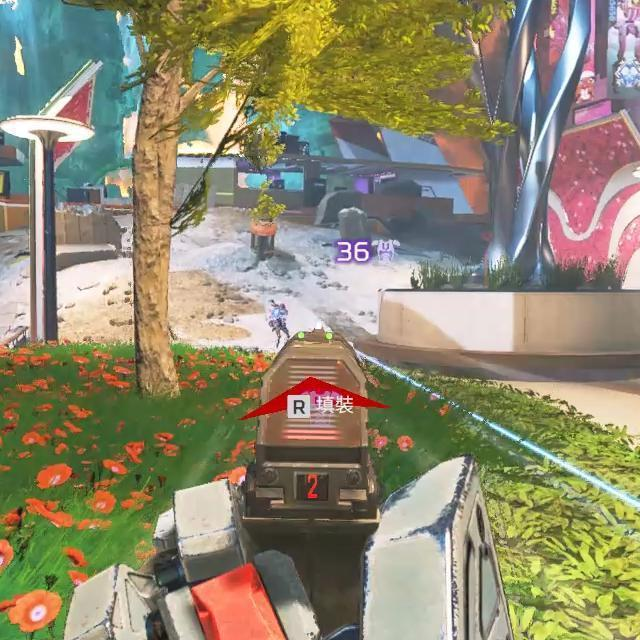avatar: (266, 298, 291, 350)
